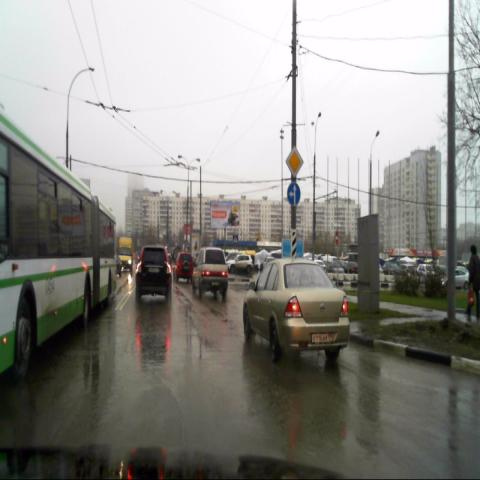4_1_5: (288, 183, 300, 206)
